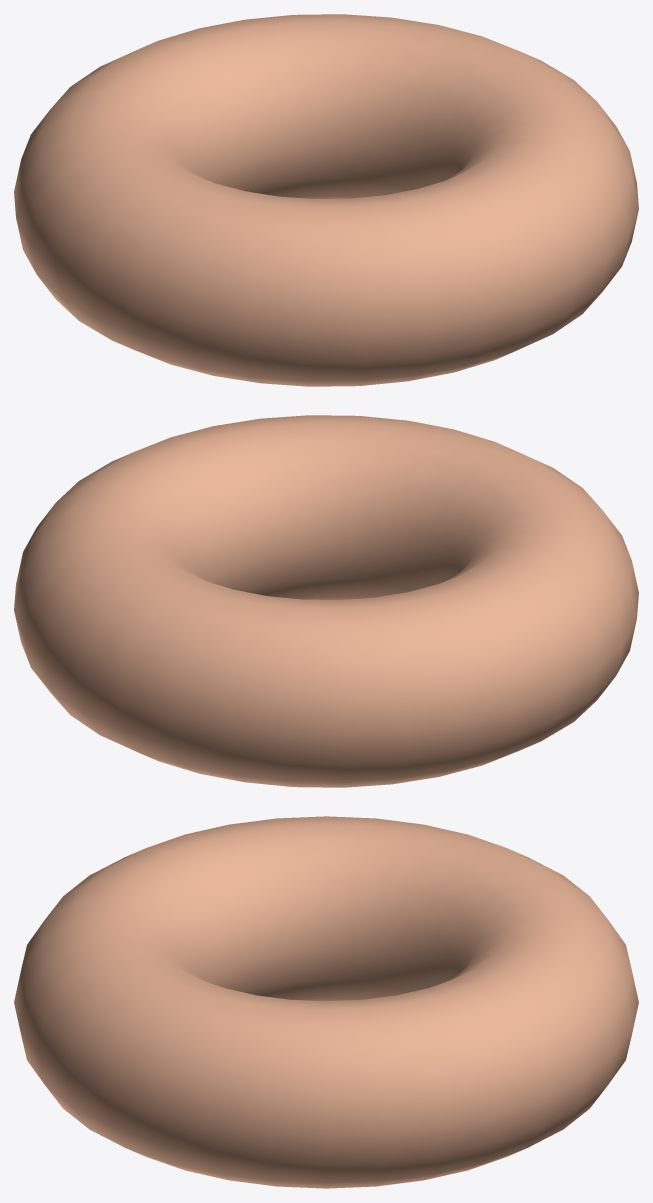
File: ring-draco.glb
3 views of the same model, one above another, from view 1: azimuth 30°, elevation 25°; view 2: azimuth 150°, elevation 25°; view 3: azimuth 270°, elevation 25° (orthographic).
Visible parts, largest first — view 1: ring; view 2: ring; view 3: ring.
Boxes of the visible parts, x1,y1,x2,y2 form: ring: [14, 14, 638, 386]; ring: [14, 415, 638, 787]; ring: [14, 816, 638, 1188].
Bounding box in the file's own units: 1 × 0.3 × 1.
